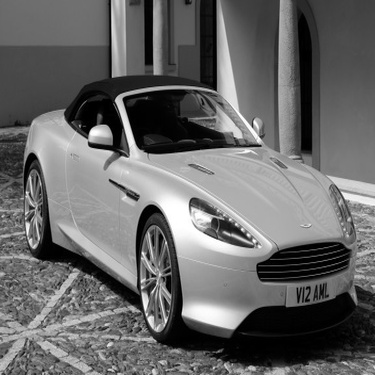car: (15, 70, 365, 350)
